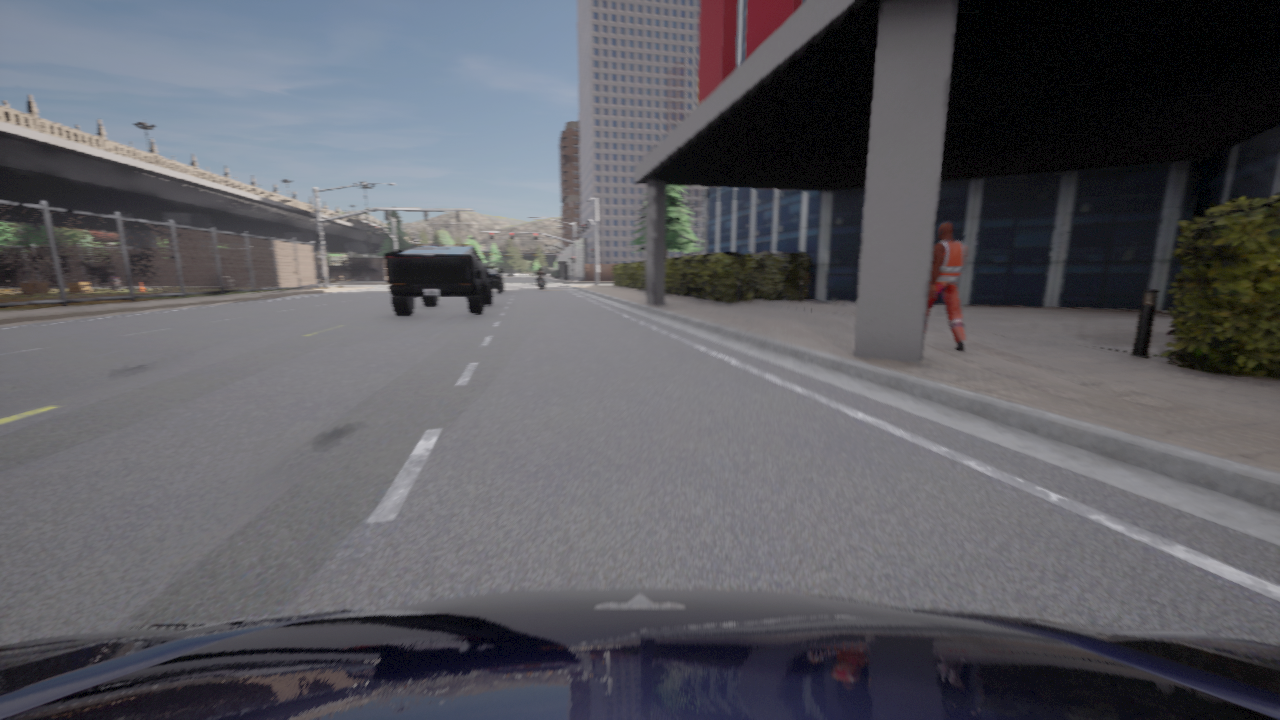cyclist: (0, 588, 1279, 719), (385, 246, 491, 315), (486, 267, 503, 292), (538, 278, 543, 289)
pedestrian: (924, 223, 966, 351)
